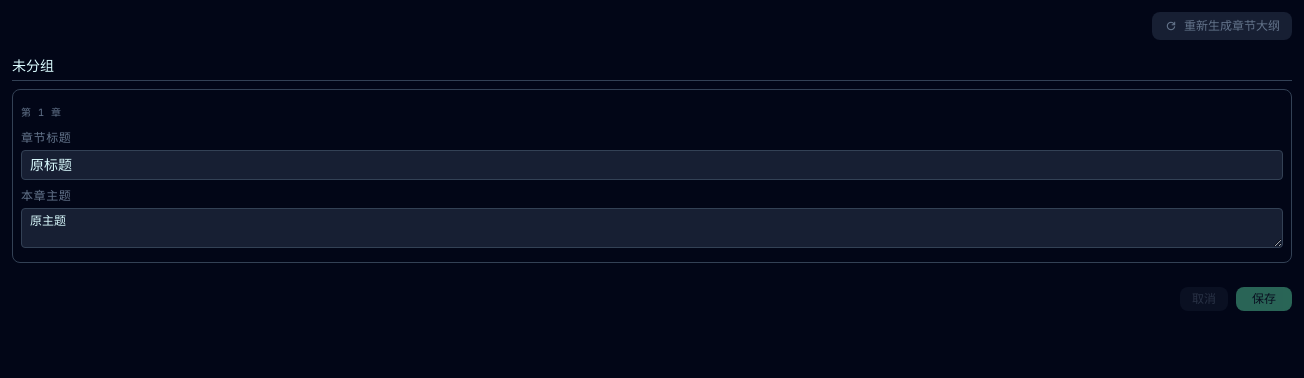
Test: ChapterOutlineEditor › save error shows banner and preserves local state
Replace the text in the field with test id "chapter-1-title" with "新标题" at (652, 165), box [21, 150, 1283, 180]
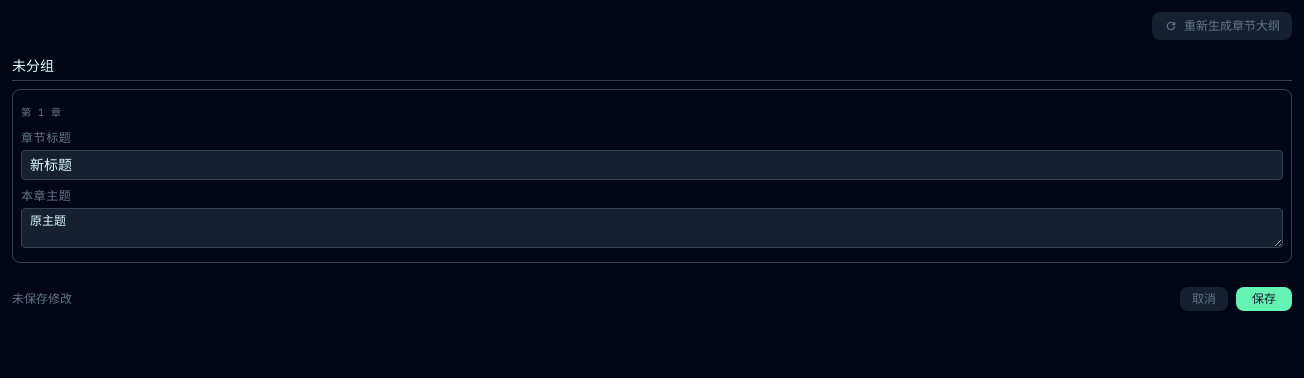
Click the button with test id "chapter-outline-editor-save" at (1264, 299), box [1236, 287, 1292, 311]
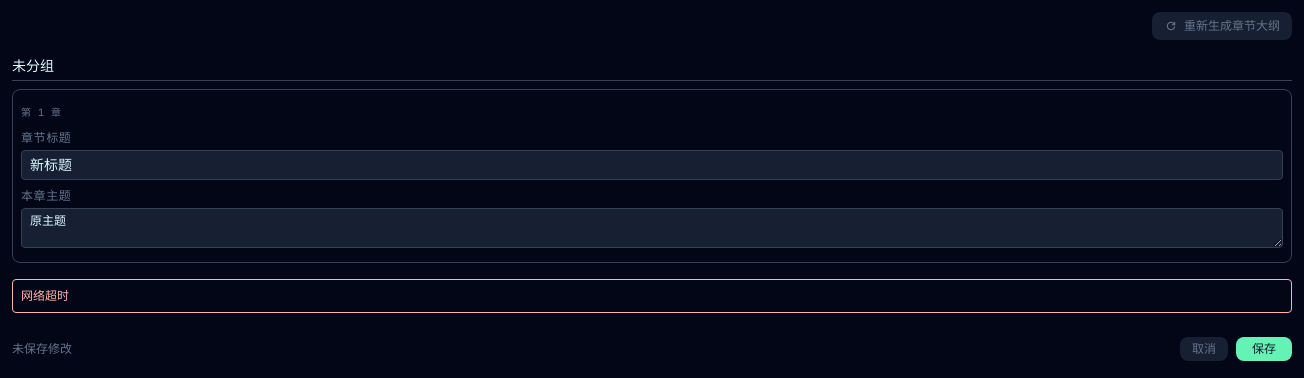
Expected: the text "网络超时" is shown, [12, 279, 1292, 313]
Expected: the text with test id "chapter-outline-editor-error" reads "网络超时", [21, 288, 69, 303]
